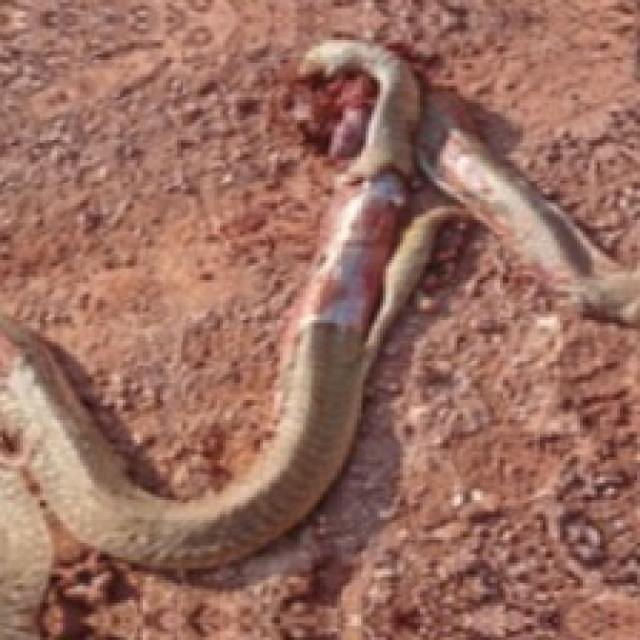king cobra: (40, 226, 637, 637), (0, 126, 326, 637)
